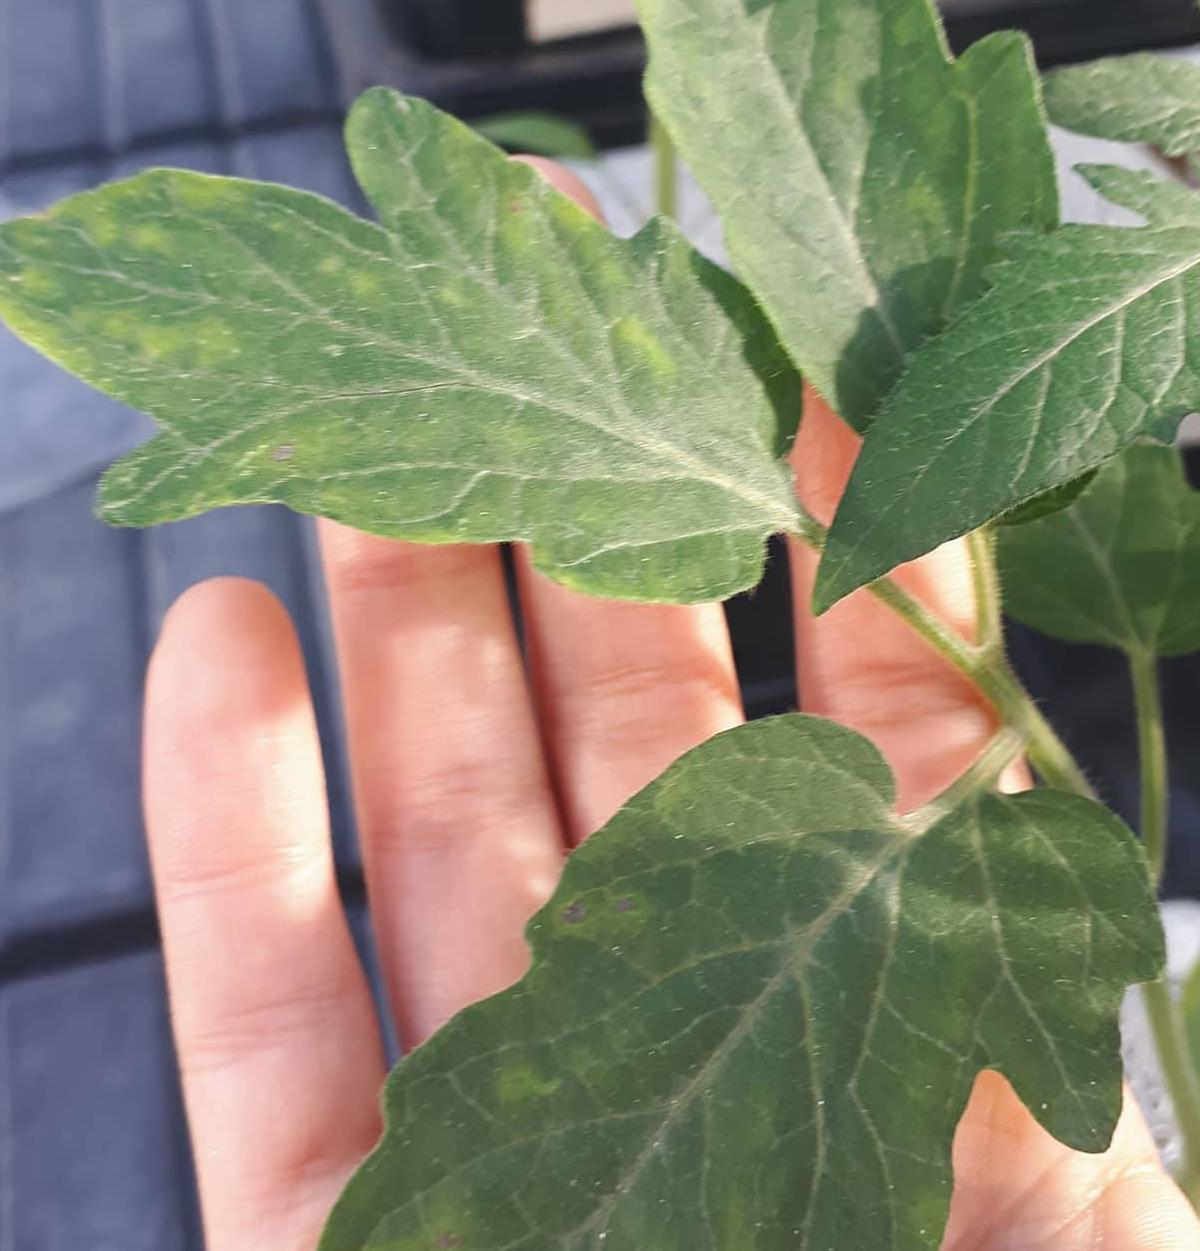Tomato mold leaf: (240, 690, 1175, 1251), (0, 61, 825, 577), (803, 164, 1200, 656)
